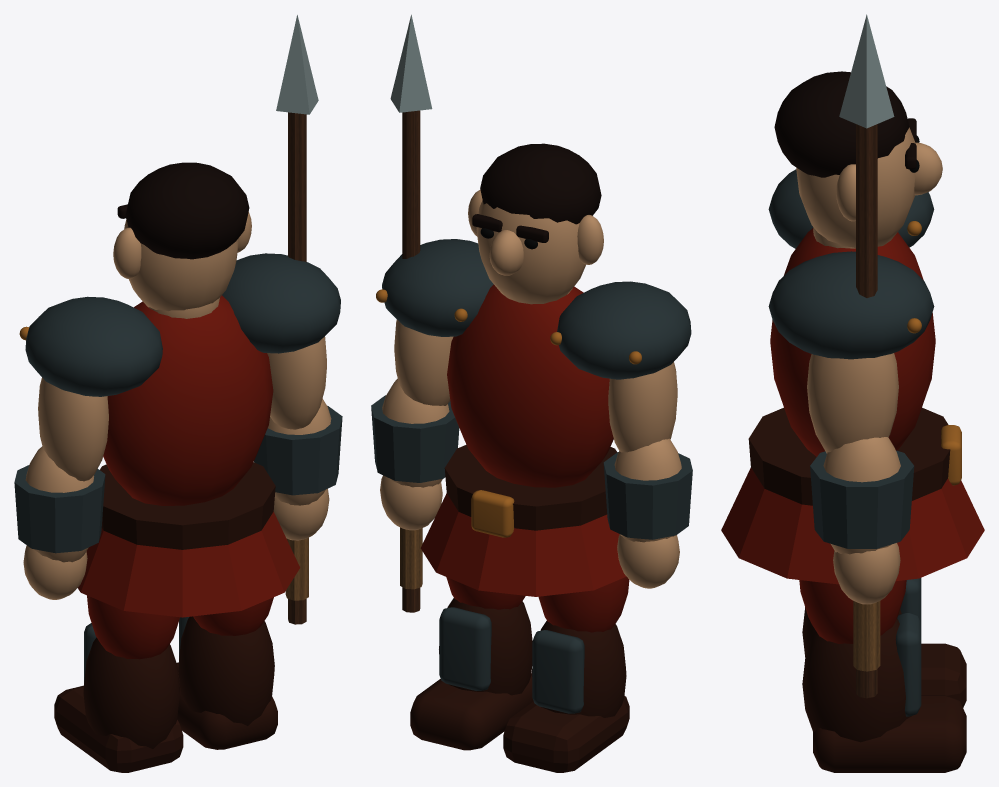
The model's file is kashya.glb.
3 renders of one model, left to right at view 1: azimuth 30°, elevation 25°; view 2: azimuth 150°, elevation 25°; view 3: azimuth 270°, elevation 25°, orthographic. The views are drawn at different scales.
Visible parts, largest first — view 1: Chest, Shoulder armor, Bracer.001, Boot, Foot.001, Brow.001, Hand, Waist belt, Hand.001, Head, Thigh, Rogue spear (+3 smaller); view 2: Chest, Shoulder armor, Bracer.001, Boot, Foot.001, Hand, Head, Brow.001, Hand.001, Waist belt, Shin guard, Shin guard.001 (+6 smaller); view 3: Chest, Bracer.001, Foot.001, Hand.001, Brow.001, Head, Waist belt, Rogue spear, Thigh.001, Spearhead, Shoulder armor, Boot (+4 smaller).
Part boxes in pixels (x1,y1,x2,y2): Chest: (78,295,300,617); Shoulder armor: (14,296,162,553); Bracer.001: (222,253,342,495); Boot: (54,637,183,772); Foot.001: (176,616,277,749); Brow.001: (117,162,249,259); Hand: (23,377,108,599); Waist belt: (100,462,275,549); Hand.001: (267,336,331,540); Head: (113,212,251,318); Thigh: (87,595,179,659); Rogue spear: (288,112,306,624); Chest: (420,284,626,596); Shoulder armor: (557,281,692,539); Bracer.001: (371,239,493,482); Boot: (503,620,629,772); Foot.001: (410,598,533,750); Hand: (608,362,681,588); Head: (468,189,603,304); Brow.001: (472,143,601,242); Hand.001: (380,319,453,530); Waist belt: (444,444,616,530); Shin guard: (532,630,584,713); Shin guard.001: (439,607,491,690); Chest: (721,228,984,584); Bracer.001: (768,251,934,548); Foot.001: (802,618,966,772); Hand.001: (807,353,900,604); Brow.001: (774,71,916,177); Head: (796,127,942,248); Waist belt: (748,407,950,505); Rogue spear: (856,124,877,698); Thigh.001: (799,580,906,643); Spearhead: (839,14,894,128); Shoulder armor: (768,169,934,248); Boot: (802,607,966,707).
Bounding box in the file's own units: 1.32 × 2.86 × 0.86.
Materials: 10 (2 with a texture image).
